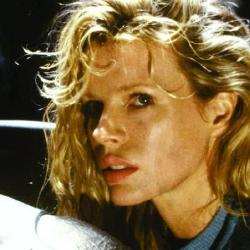face: (32, 3, 245, 221)
